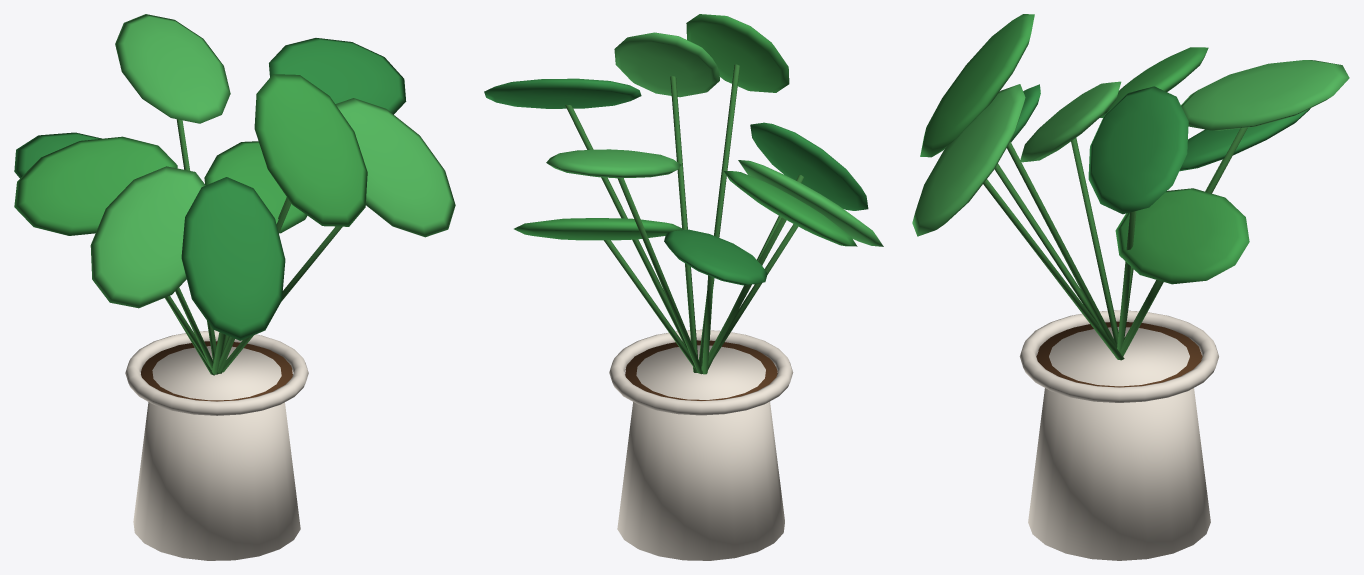
Rendered from plant.glb.
3 views of the same model, side by side, from view 1: azimuth 30°, elevation 25°; view 2: azimuth 150°, elevation 25°; view 3: azimuth 270°, elevation 25° (orthographic). The views are drawn at different scales.
Parts seen in each view (by area): view 1: plant; view 2: plant; view 3: plant.
Part boxes in pixels (box(x1,y1,x2,y2)): plant: box(14, 14, 455, 560); plant: box(484, 14, 883, 560); plant: box(912, 14, 1349, 560).
Size of the model in its own units: 1.14 by 1.37 by 1.05.
Materials: 4 (4 with a texture image).
